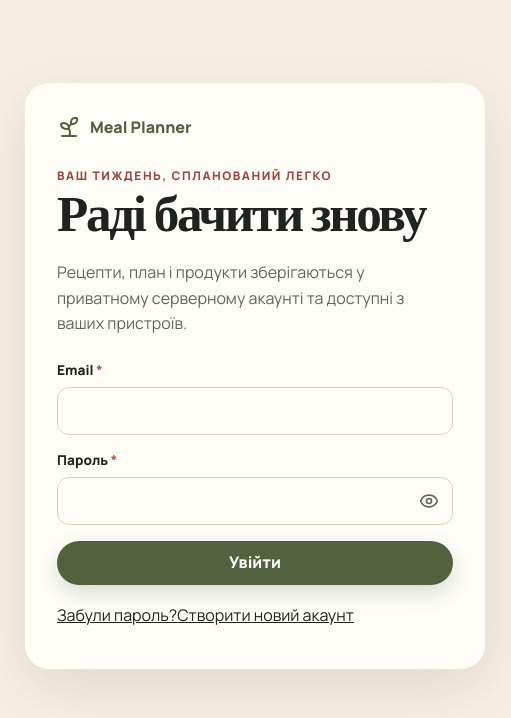
it: AuthPage › blocks account creation when passwords do not match
Click the button "Створити новий акаунт" at (265,615), box [177,593,354,637]
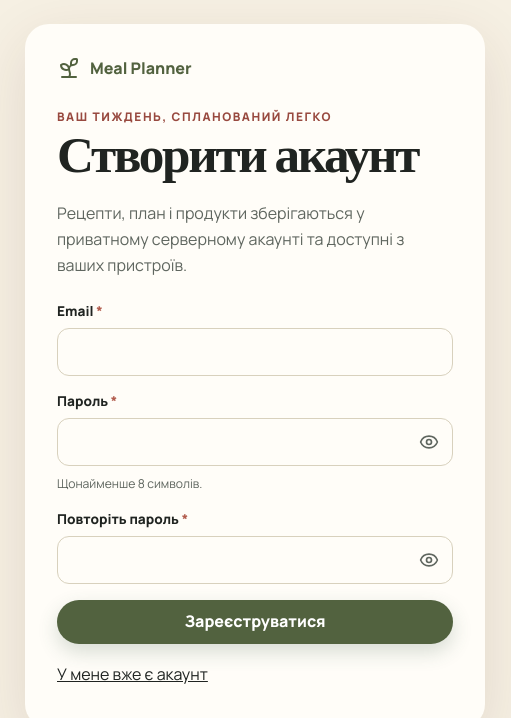
Type "user@example.com" into the field labelled "Email" at (255,352), box [57,328,453,376]
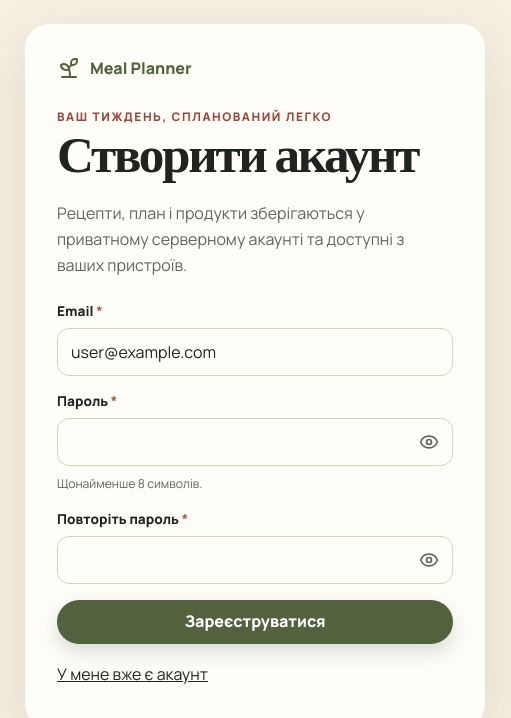
Type "secret123" into the password field labelled "Пароль" at (255,442), box [57,418,453,466]
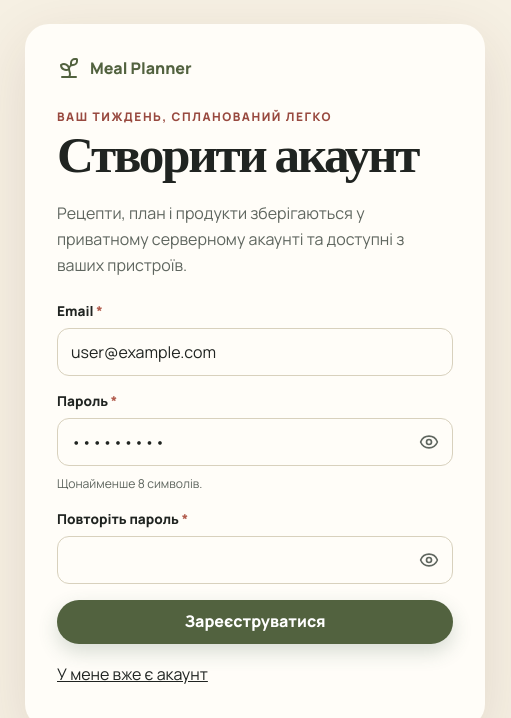
Type "different123" into the password field labelled "Повторіть пароль" at (255,560), box [57,536,453,584]
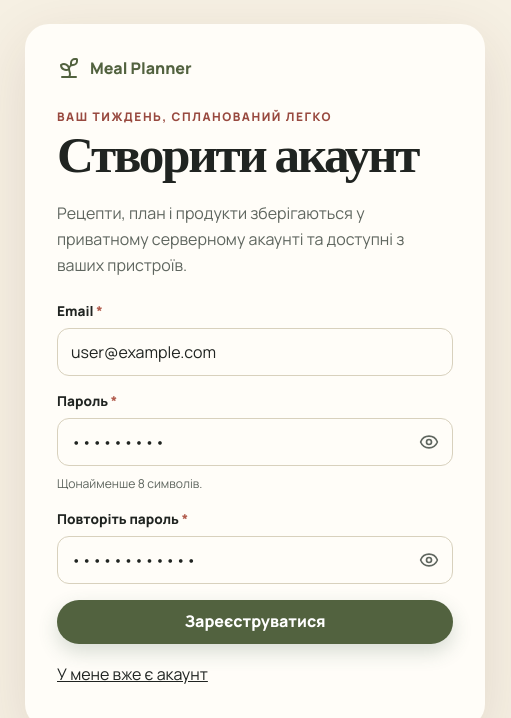
Click the button "Зареєструватися" at (255,622), box [57,600,453,644]
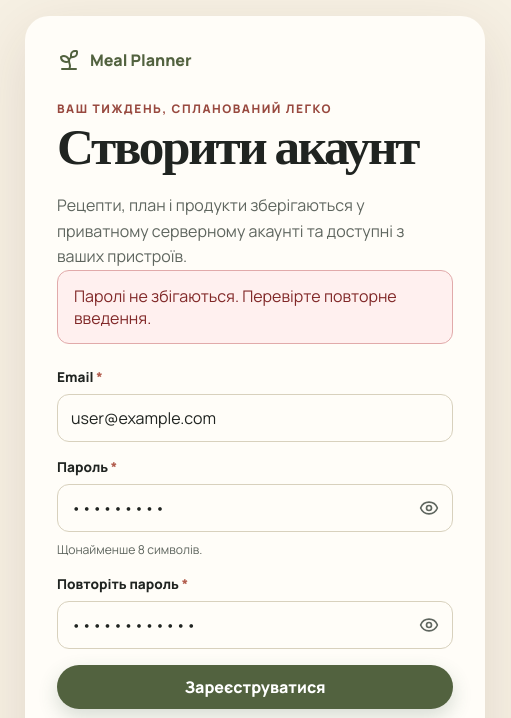
Expected: the message shows "Паролі не збігаються", [74,285,397,329]
